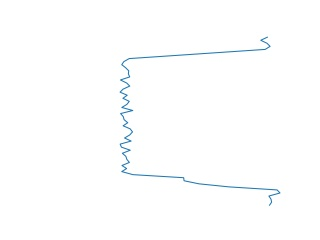distributaryChannelFill: (113, 38, 288, 205)
